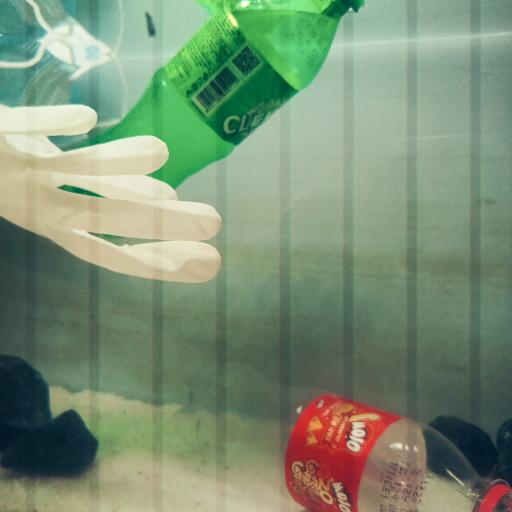glove: (0, 101, 222, 285)
mask: (0, 0, 129, 126)
plastic_bottle: (52, 0, 352, 207), (168, 360, 512, 512)
